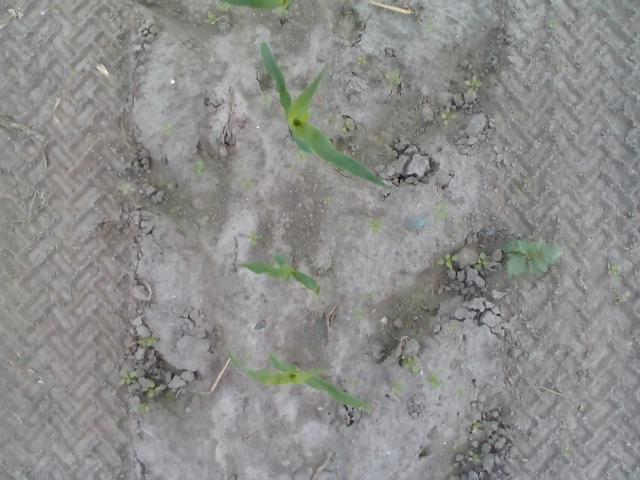Maize: (260, 39, 392, 192), (225, 348, 372, 412), (240, 252, 322, 294), (218, 0, 294, 26)
Weeds: (504, 239, 562, 278), (207, 4, 230, 26), (438, 252, 459, 270), (470, 252, 490, 270), (441, 107, 459, 126), (146, 382, 162, 400), (403, 356, 422, 371), (386, 68, 402, 84), (120, 368, 136, 384), (435, 202, 449, 220), (138, 334, 156, 348), (606, 263, 622, 278), (465, 76, 482, 90), (336, 118, 354, 131), (247, 230, 263, 244), (368, 218, 383, 232), (192, 160, 205, 175), (428, 372, 440, 388), (618, 290, 631, 303), (136, 402, 150, 414), (468, 450, 480, 462), (468, 419, 481, 429), (390, 385, 402, 395), (122, 184, 134, 192), (358, 56, 368, 65), (322, 197, 332, 204)
